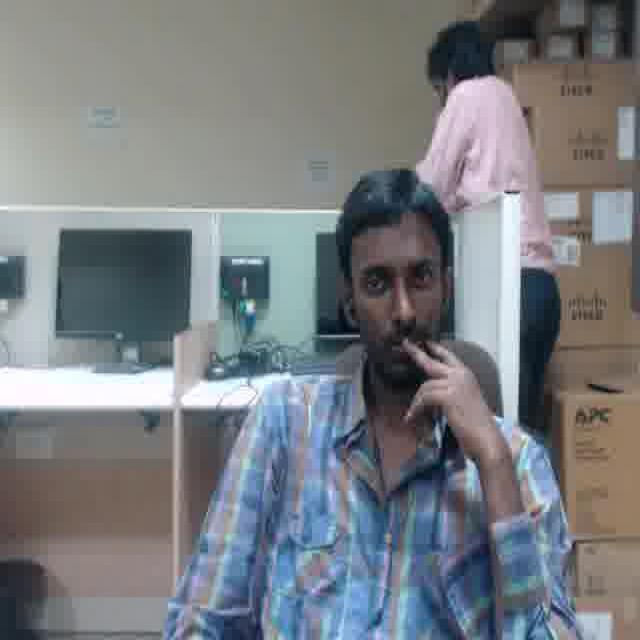Engaged: (352, 225, 440, 367)
